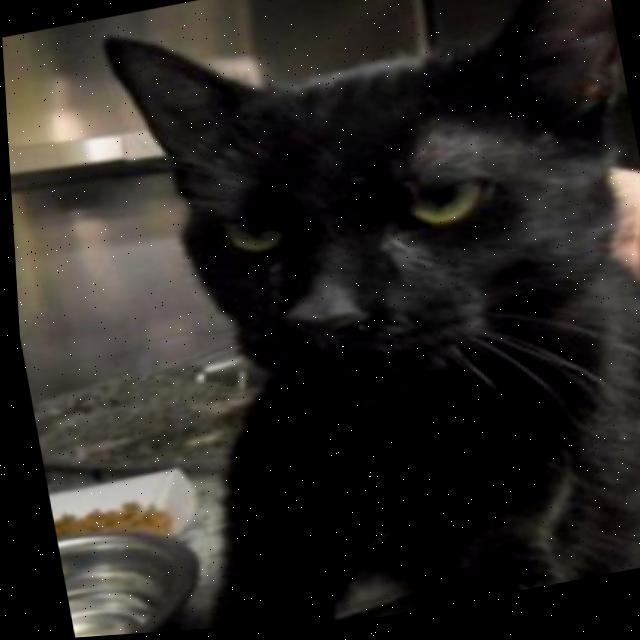Bombay: (64, 0, 640, 637)
